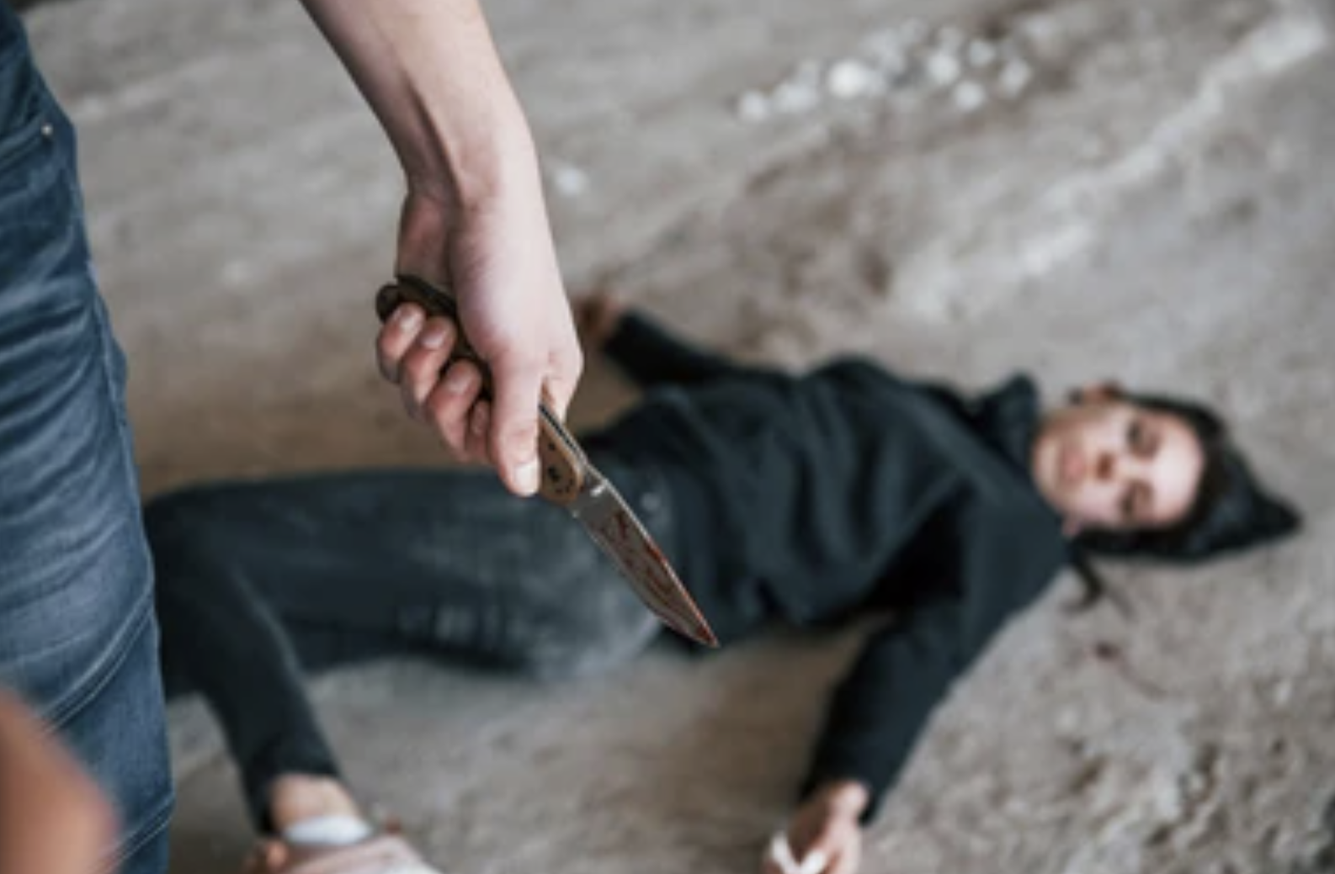knife_67.png: (354, 271, 751, 662)
